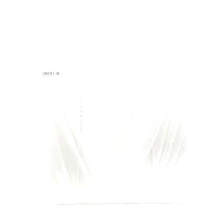foam_box: (32, 8, 198, 208)
